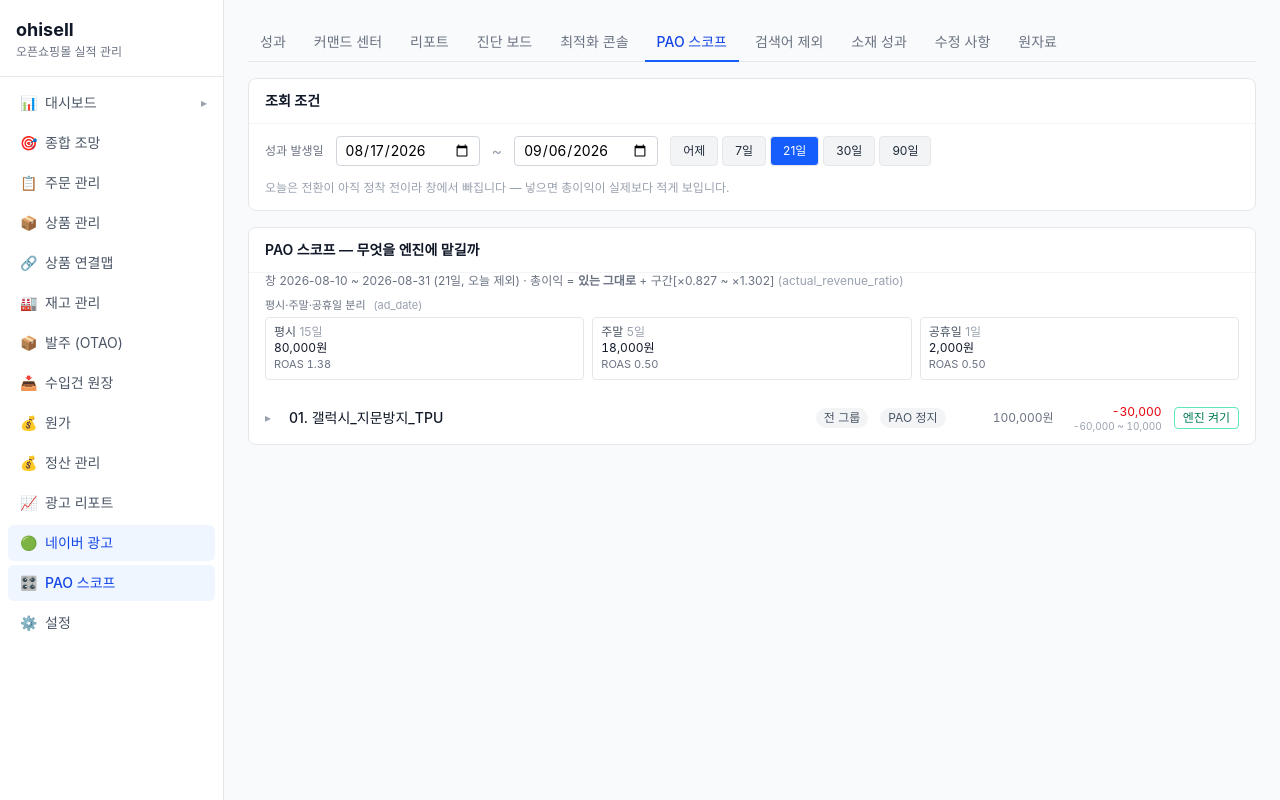
Test: ★재개방의 손이 사람에게 닿는 경로 › RSUR-3: 못 여는 건은 버튼이 비활성이고 «사유»가 옆에 적힌다
Click the text "01. 갤럭시_지문방지_TPU": click(366, 417) 289,409 -> 443,426
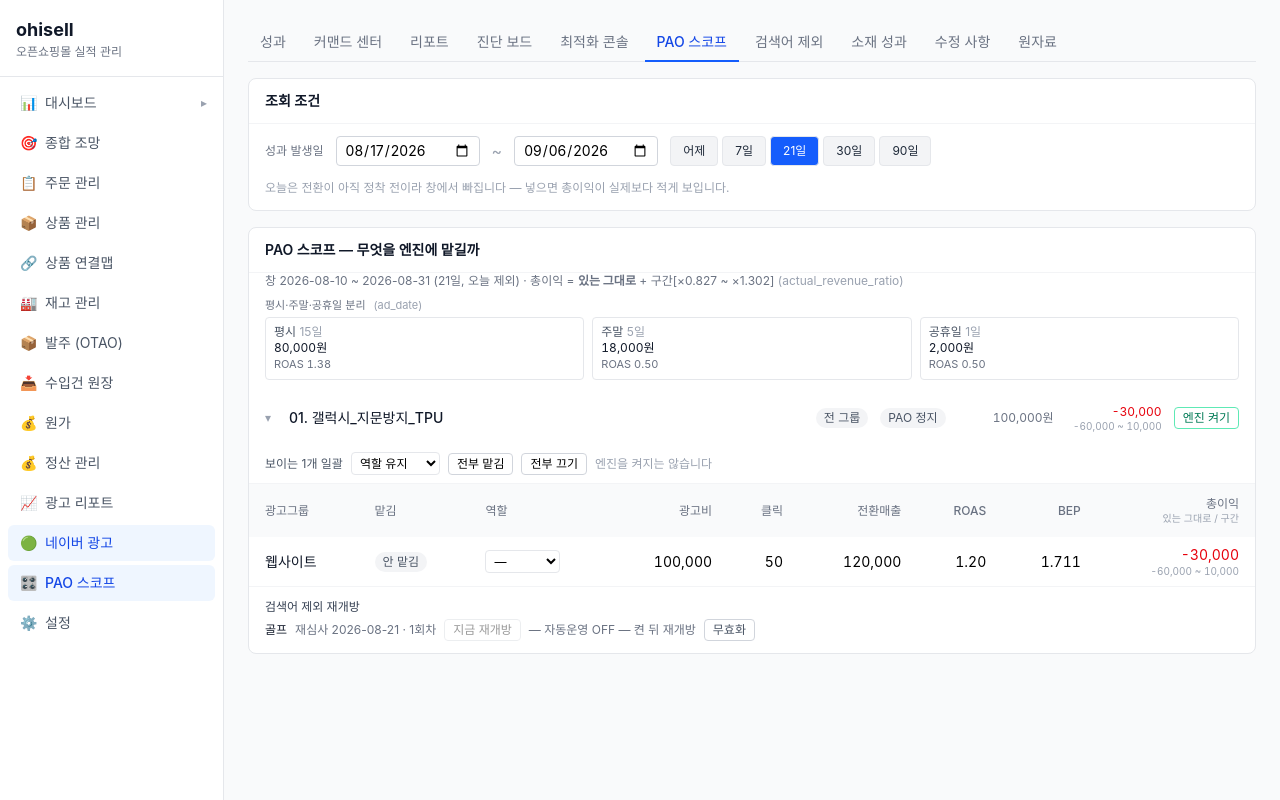
Expected: the button "지금 재개방" is disabled, 444,619 -> 521,641
Expected: the text "— 자동운영 OFF — 켠 뒤 재개방" is shown, 529,622 -> 696,638
